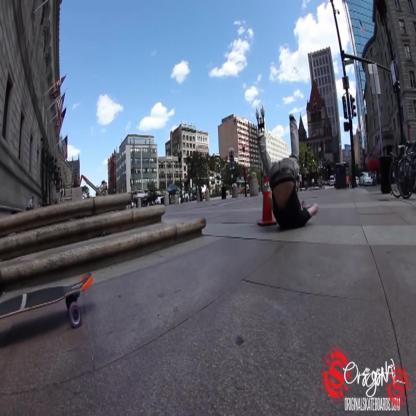Fall_Down: (256, 113, 321, 234)
